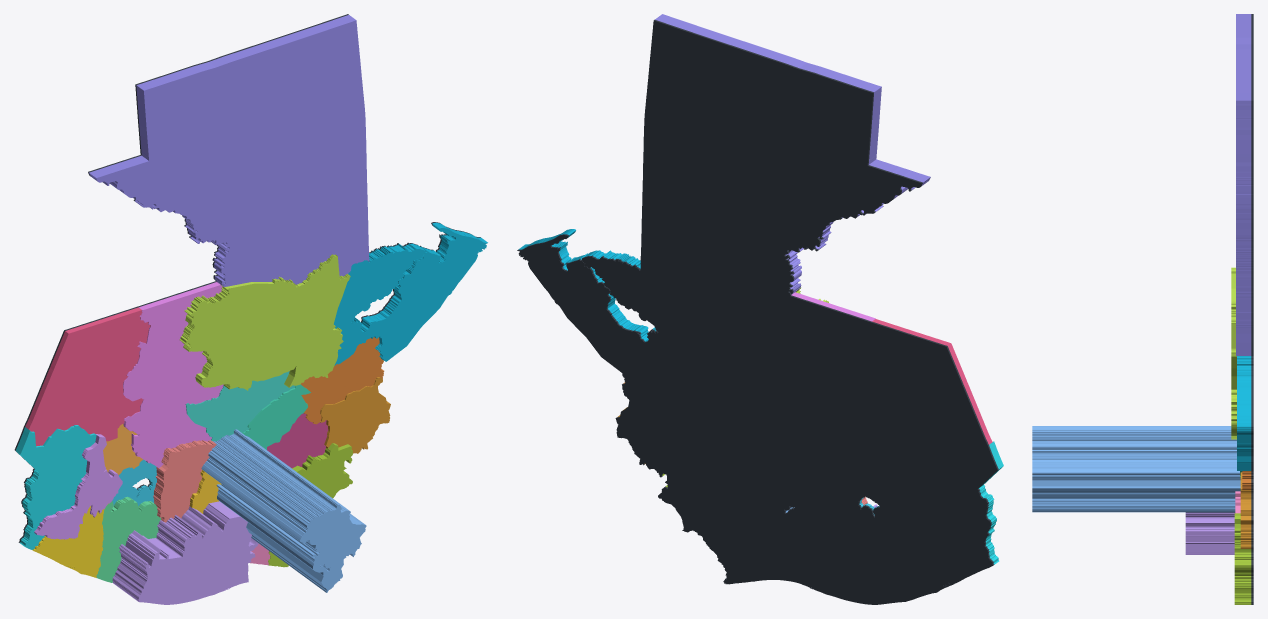
File: modelo_3d_resumen_accidentes_2025.glb
3 views of the same model, side by side, from view 1: azimuth 30°, elevation 25°; view 2: azimuth 150°, elevation 25°; view 3: azimuth 270°, elevation 25° (orthographic). The views are drawn at different scales.
Visible parts, largest first — view 1: depto_17_Petén, depto_16_Alta_Verapaz, depto_01_Guatemala, depto_18_Izabal, depto_05_Escuintla, depto_13_Huehuetenango, depto_14_Quiché, depto_12_San_Marcos, depto_15_Baja_Verapaz, depto_09_Quetzaltenango, depto_20_Chiquimula, depto_04_Chimaltenango (+10 smaller); view 2: base_guatemala, depto_17_Petén, depto_18_Izabal, depto_13_Huehuetenango, depto_12_San_Marcos; view 3: depto_01_Guatemala, depto_17_Petén, depto_05_Escuintla, base_guatemala, depto_18_Izabal, depto_22_Jutiapa, depto_16_Alta_Verapaz, depto_20_Chiquimula.
Part boxes in pixels (x1,y1,x2,y2): depto_17_Petén: (89, 15, 369, 286); depto_16_Alta_Verapaz: (179, 254, 350, 390); depto_01_Guatemala: (201, 429, 366, 592); depto_18_Izabal: (333, 222, 487, 365); depto_05_Escuintla: (112, 501, 258, 604); depto_13_Huehuetenango: (25, 307, 150, 446); depto_14_Quiché: (123, 282, 223, 468); depto_12_San_Marcos: (15, 425, 96, 549); depto_15_Baja_Verapaz: (185, 371, 294, 441); depto_09_Quetzaltenango: (34, 434, 122, 539); depto_20_Chiquimula: (320, 377, 390, 453); depto_04_Chimaltenango: (153, 440, 216, 522); base_guatemala: (517, 19, 998, 604); depto_17_Petén: (655, 14, 930, 294); depto_18_Izabal: (518, 229, 655, 341); depto_13_Huehuetenango: (872, 319, 992, 444); depto_12_San_Marcos: (979, 441, 1003, 564); depto_01_Guatemala: (1032, 426, 1240, 512); depto_17_Petén: (1236, 14, 1251, 355); depto_05_Escuintla: (1185, 512, 1235, 554); base_guatemala: (1251, 14, 1253, 604); depto_18_Izabal: (1237, 356, 1251, 470); depto_22_Jutiapa: (1234, 513, 1251, 604); depto_16_Alta_Verapaz: (1231, 267, 1236, 439); depto_20_Chiquimula: (1240, 472, 1251, 548).
Size of the model in its own units: 150 by 163 by 60.6.
